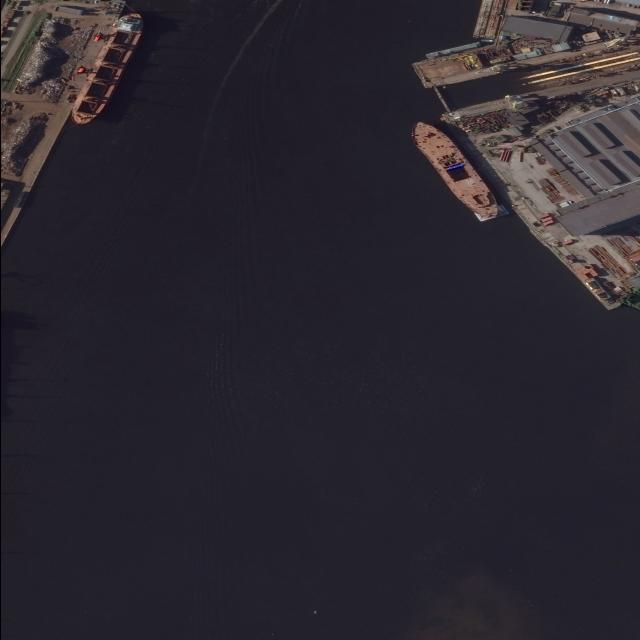ship: (408, 120, 498, 220), (68, 13, 144, 125), (313, 610, 316, 614)
